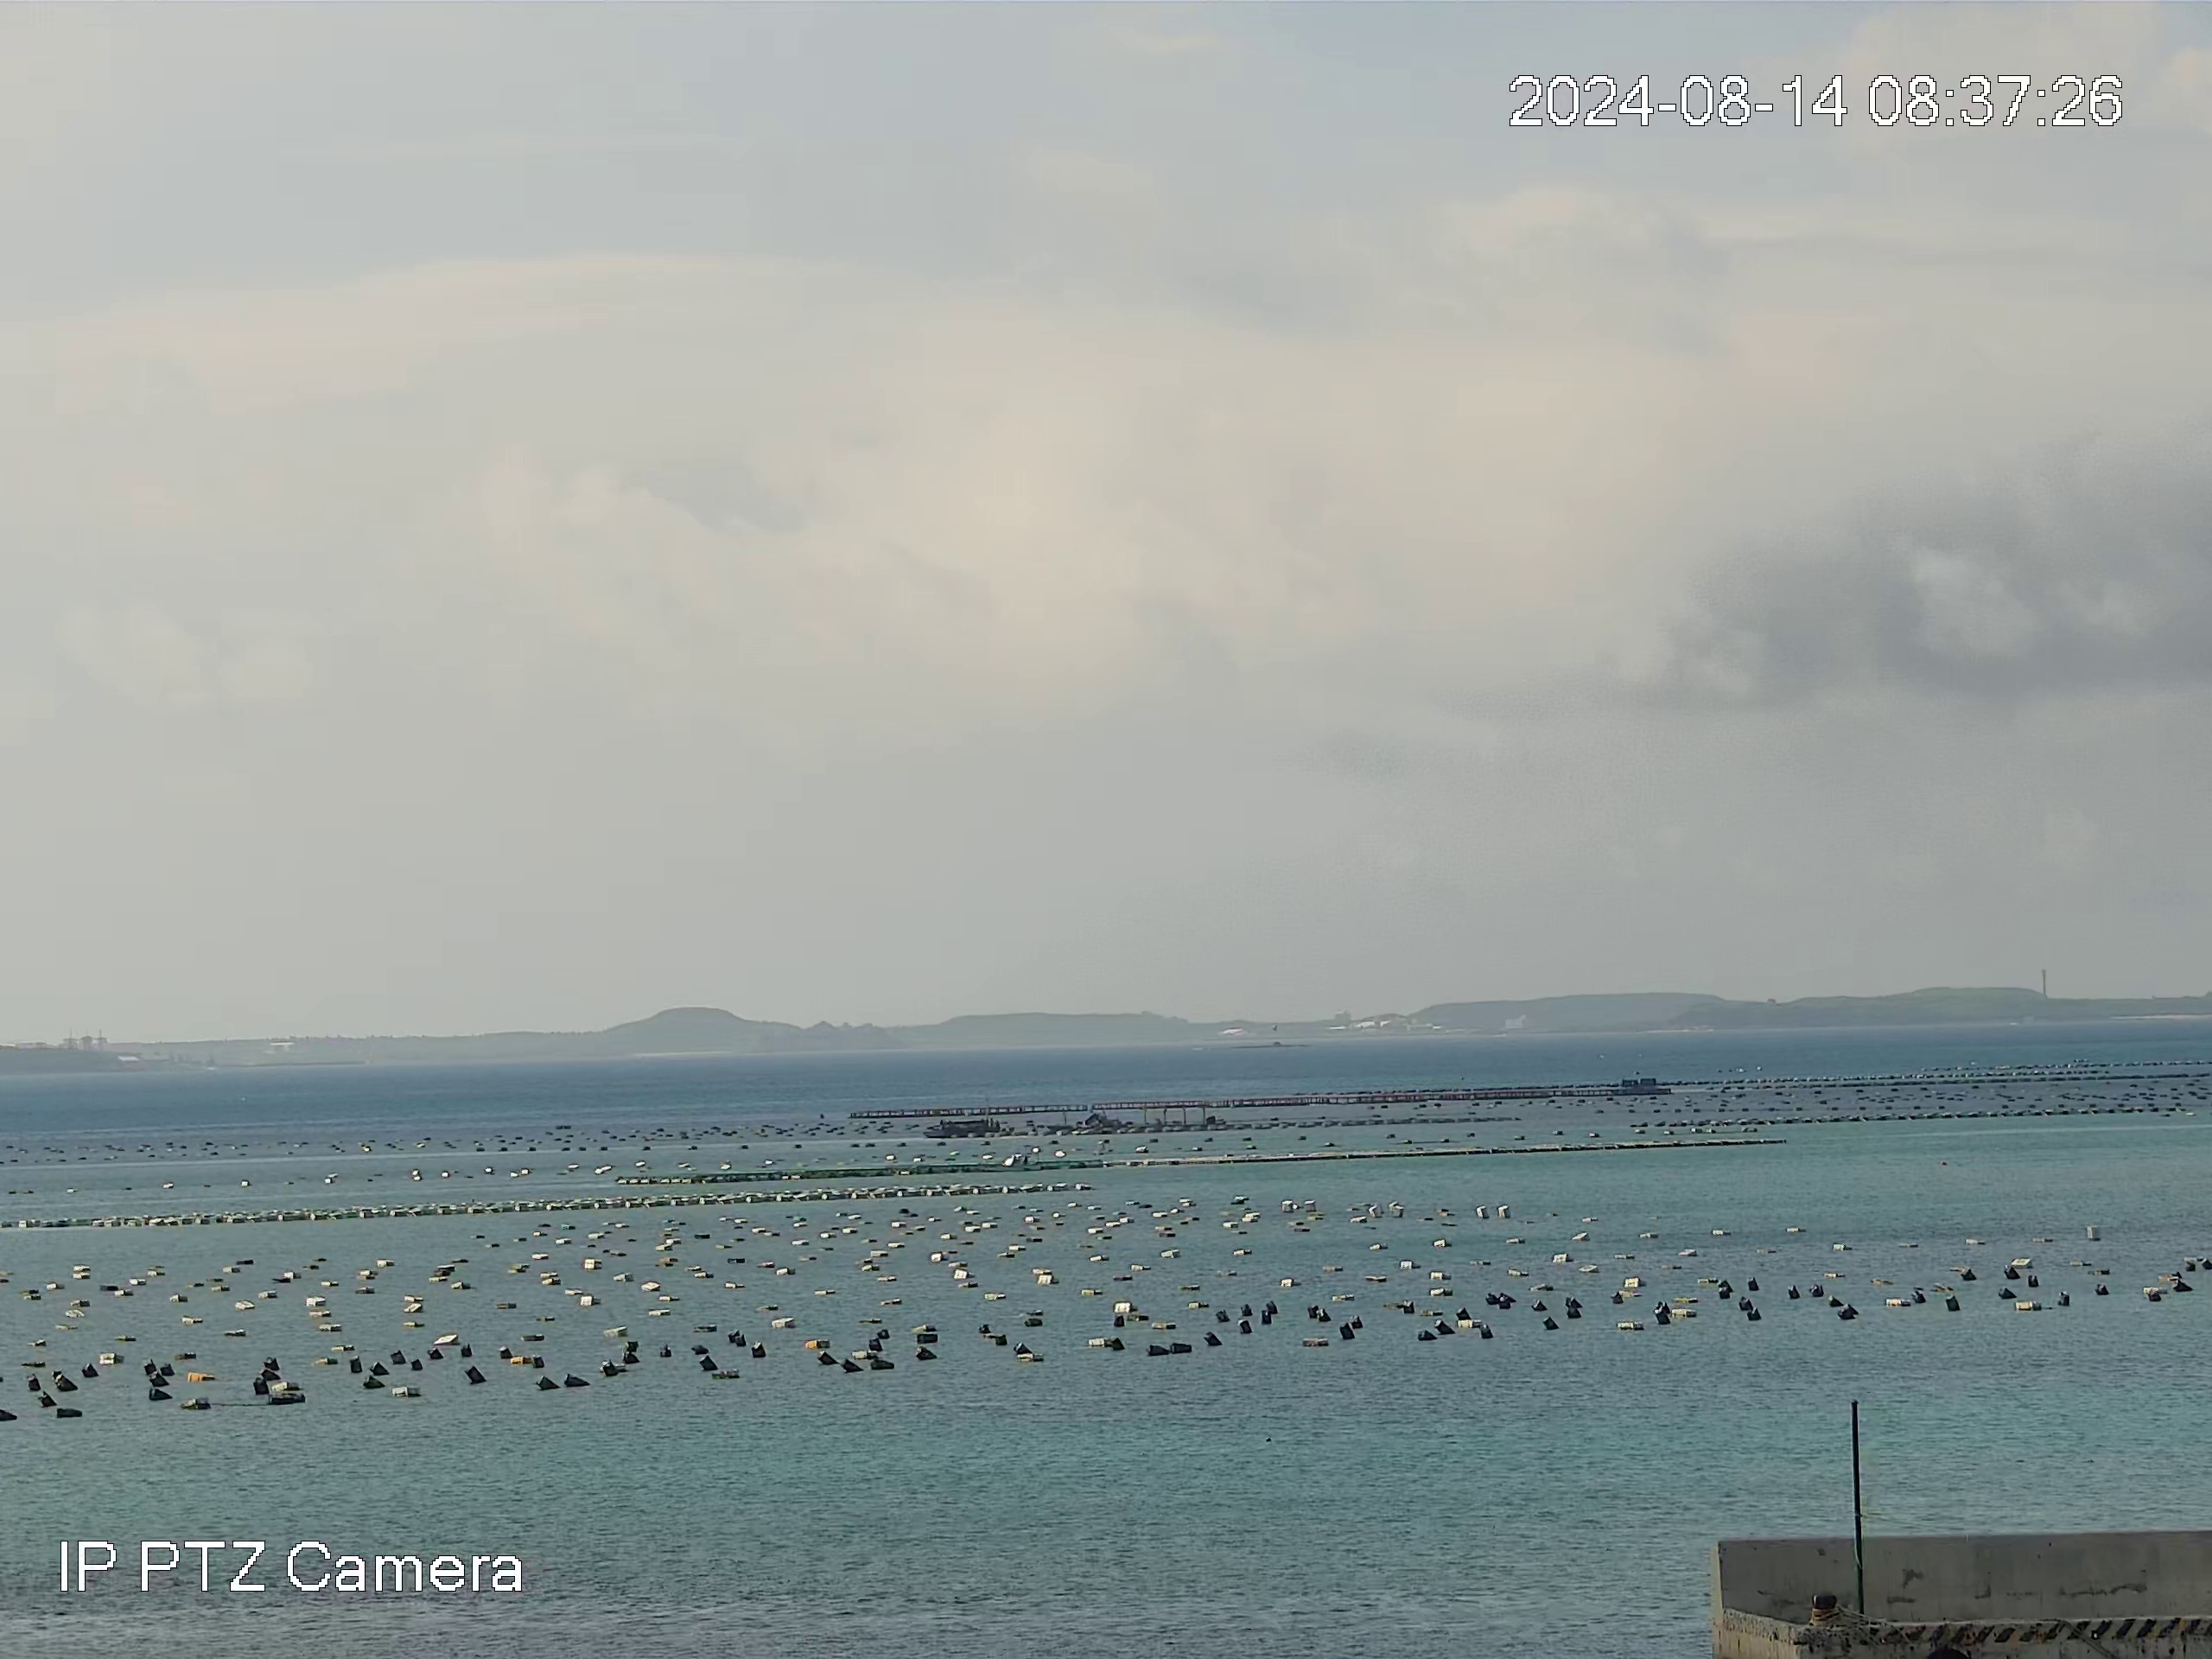boat: (927, 1117, 1000, 1138)
